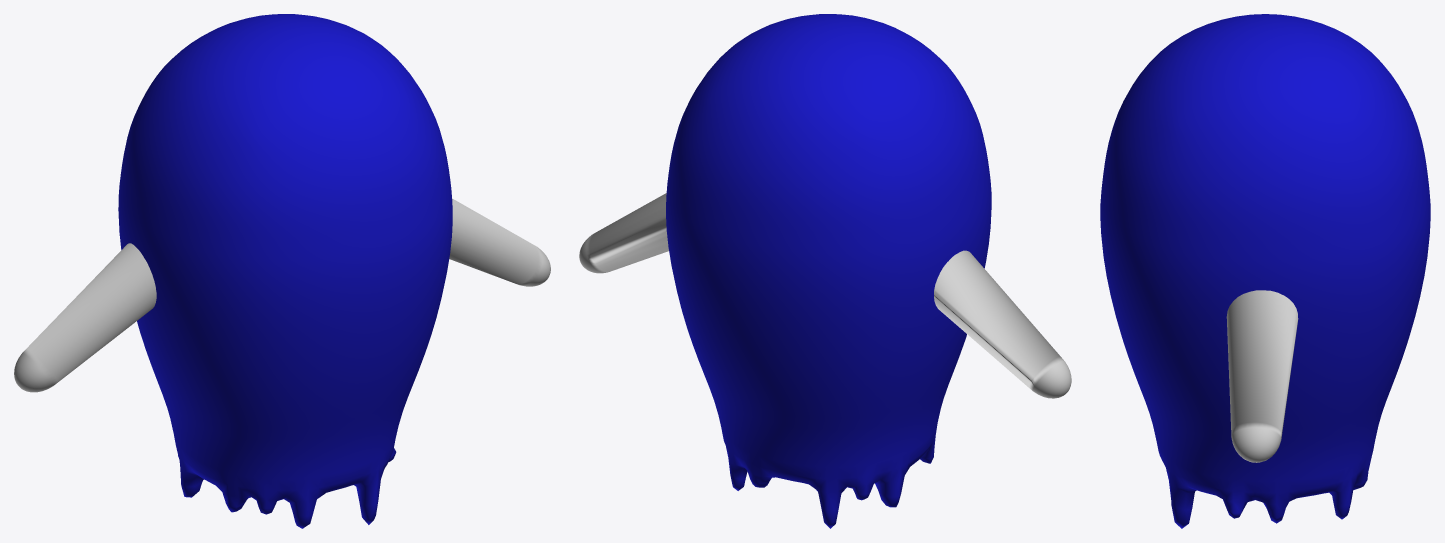
The model's file is beforeThrow_00001.obj.
3 renders of one model, left to right at view 1: azimuth 30°, elevation 25°; view 2: azimuth 150°, elevation 25°; view 3: azimuth 270°, elevation 25°, orthographic. The views are drawn at different scales.
Parts seen in each view (by area): view 1: Cube, Sphere.001, Sphere; view 2: Cube, Sphere.001, Sphere; view 3: Cube, Sphere.
Boxes of the visible parts, left/top/right/bottom form: Cube: left=118, top=14, right=452, bottom=528; Sphere.001: left=14, top=243, right=156, bottom=392; Sphere: left=449, top=198, right=550, bottom=286; Cube: left=666, top=14, right=991, bottom=528; Sphere.001: left=934, top=250, right=1071, bottom=398; Sphere: left=579, top=193, right=668, bottom=273; Cube: left=1100, top=14, right=1430, bottom=528; Sphere: left=1226, top=290, right=1298, bottom=462.
Size of the model in its own units: 0.5187 by 0.4568 by 0.2863.
